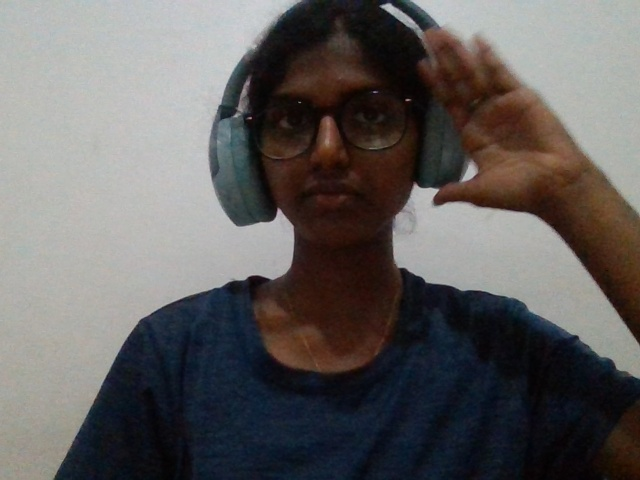Hello: (375, 8, 604, 305)
